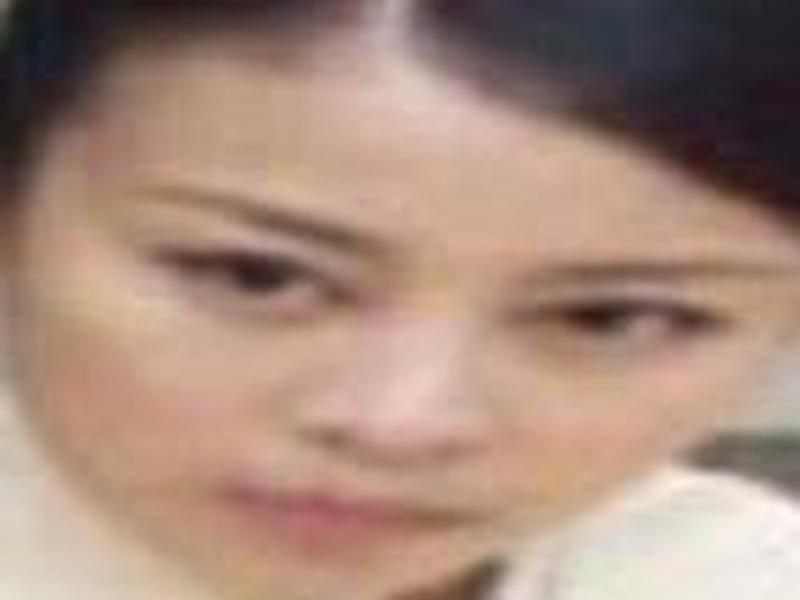without_mask: (40, 76, 785, 600)
